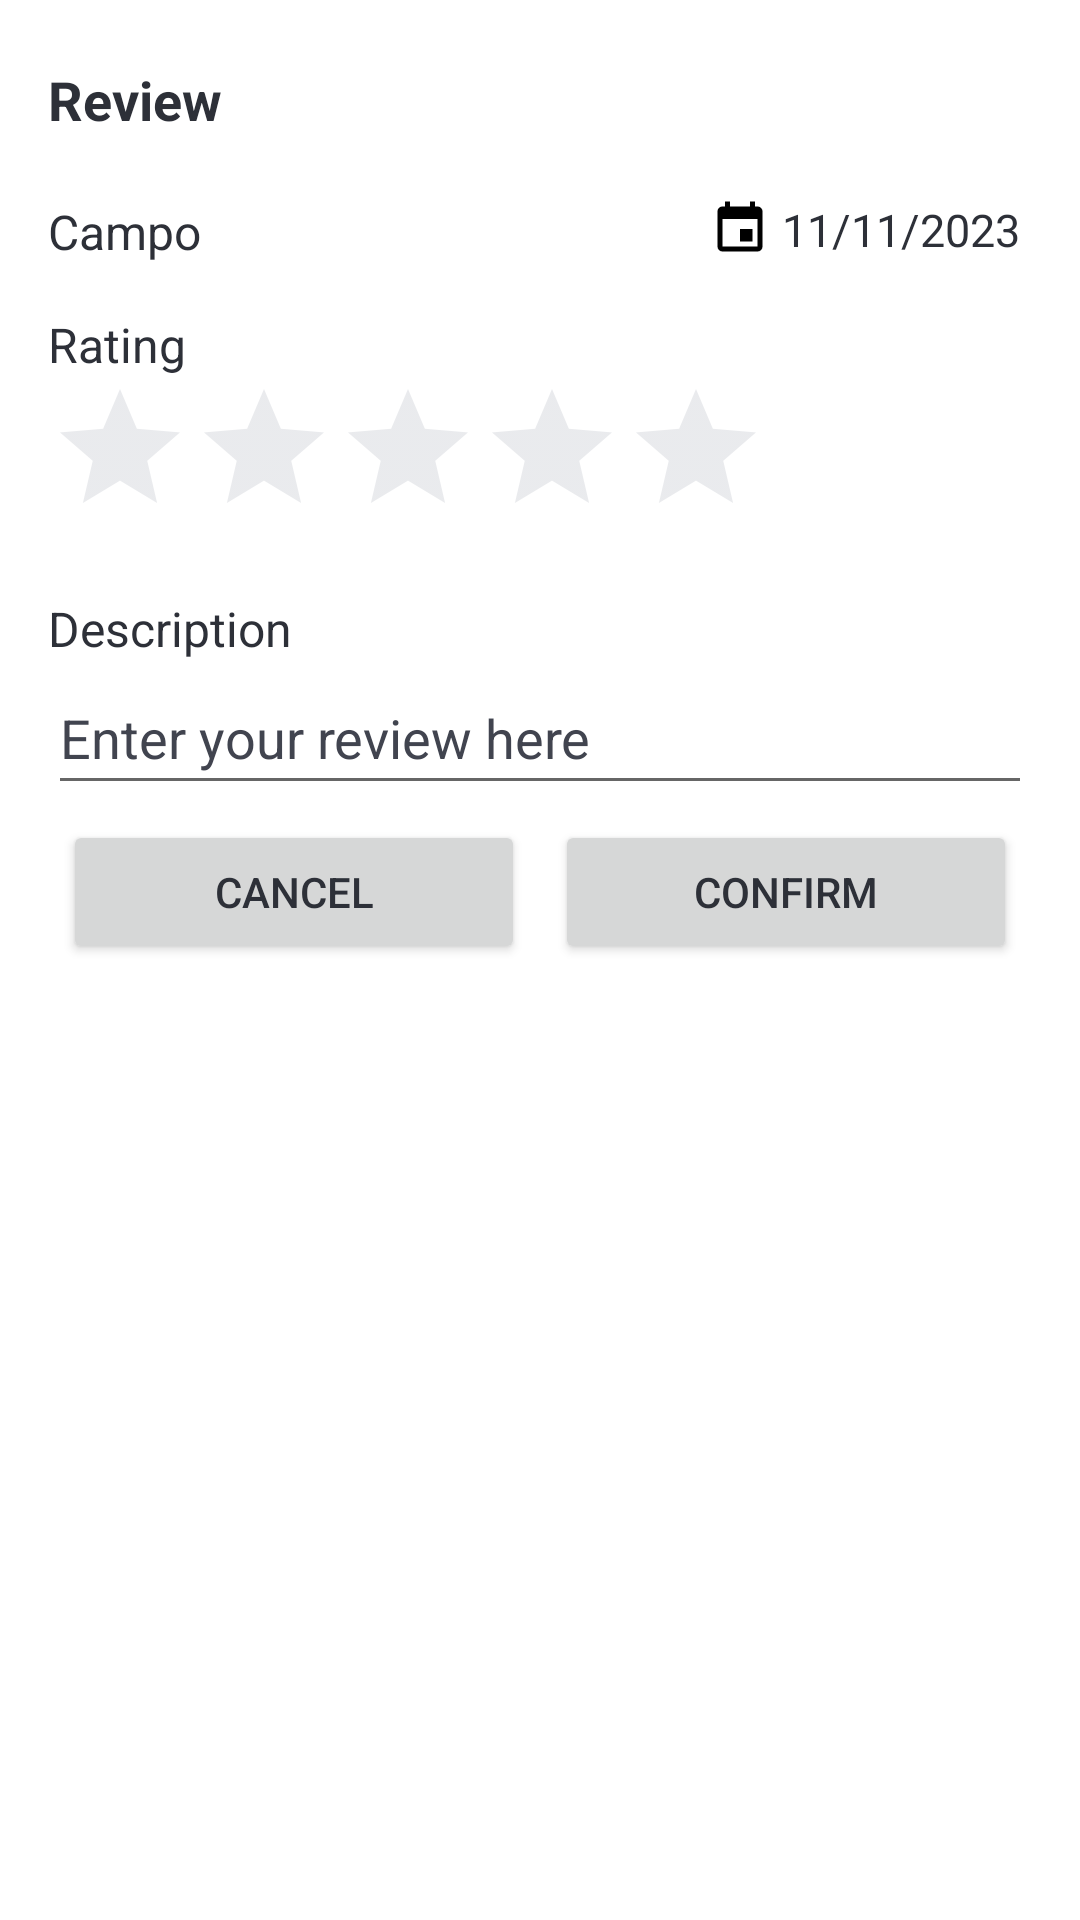

Named icons in this screenshot (1080px×1920px) and their centers, (x=x, y=y):
calendar: (x=740, y=226)
